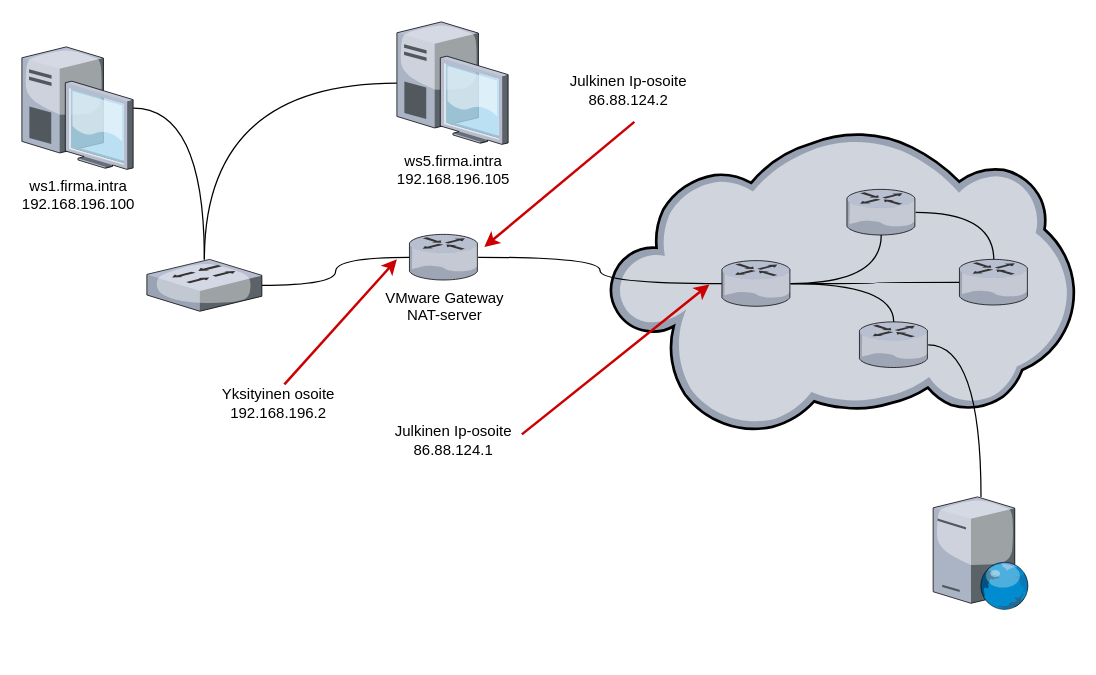
Image size: 1096x675. Some labels were removed from this diagram. The shapes that lost their labels are listed below. From the top down, each one's centre as x and y in pixels, then its label:
At [755,283]: "Operaattorin reititin".
At [980,552]: "www.huuhaa.com 123.77.1.10".
